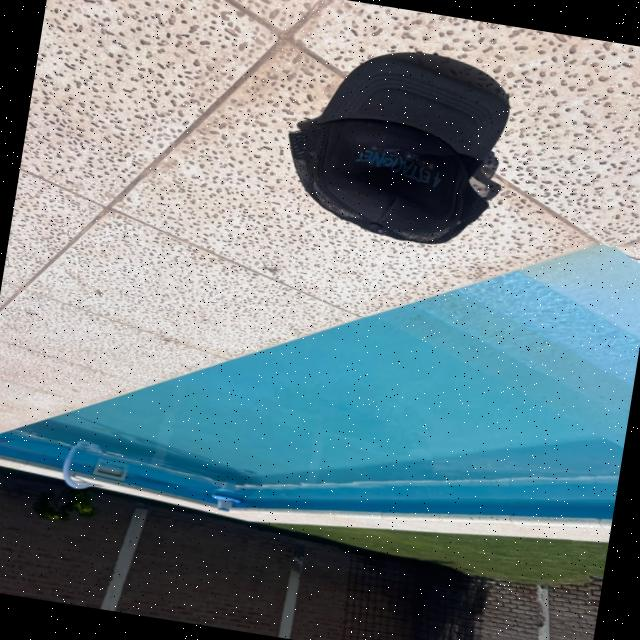Gorra: (260, 29, 546, 270)
